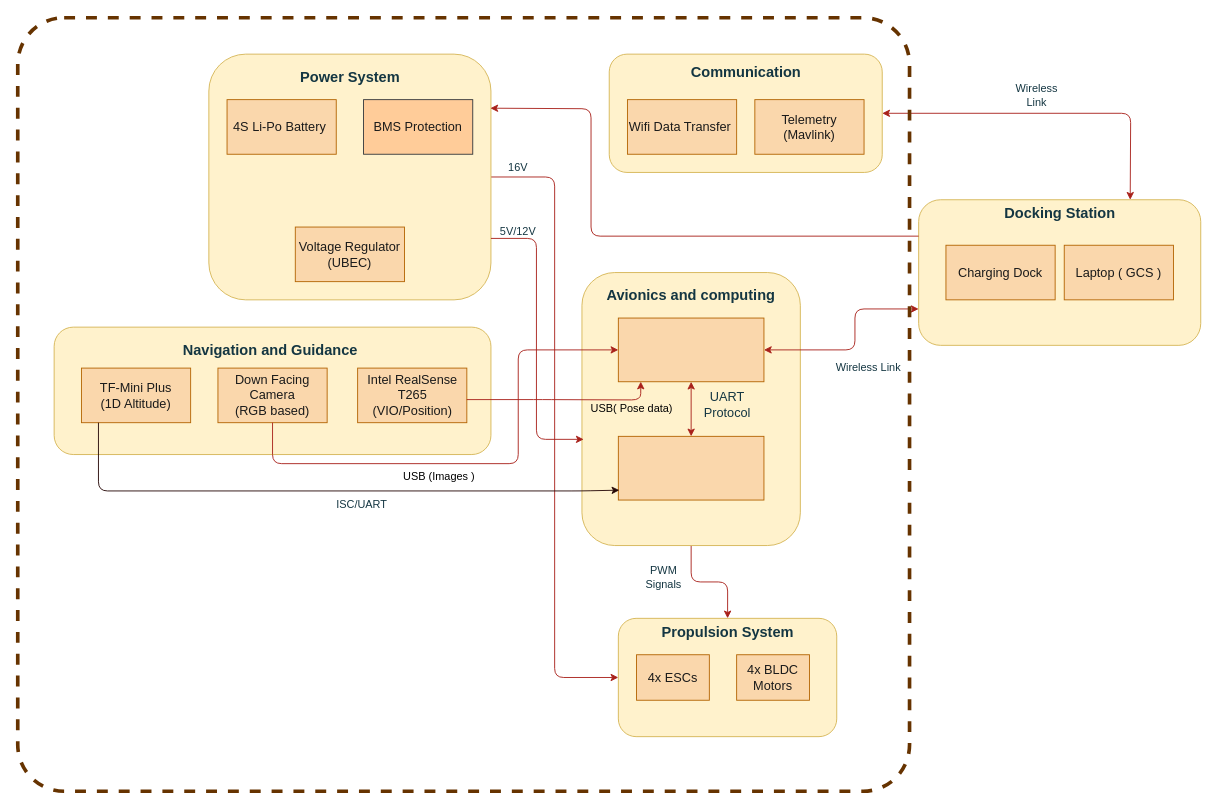
This 1217x808 diagram has some shape labels left out. The shapes that lost their labels are listed below. From the top down, each one's box as (x1, y1, x2, y2) in pixels, then its label:
(617, 317, 764, 382): Nvidia Jetson Orin Nano ( Mission Computer )
(617, 435, 764, 500): Pixhawk 6C ( Flight Controller )
